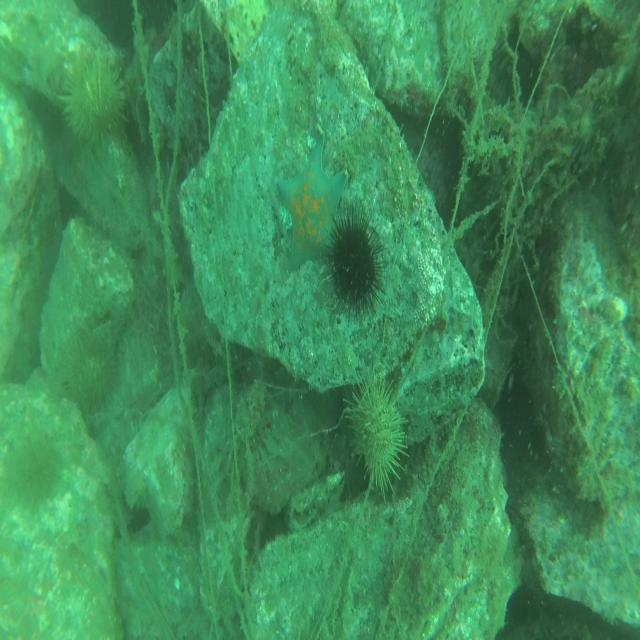echinus: (342, 370, 412, 505), (57, 55, 137, 158), (324, 200, 387, 324), (4, 418, 68, 523), (66, 330, 116, 421)
starfish: (274, 126, 352, 274)
